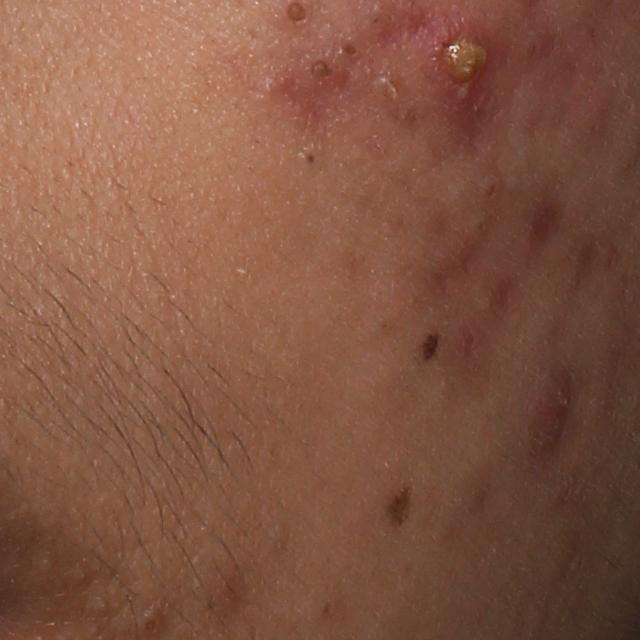comedo: (295, 143, 329, 175), (479, 176, 508, 206), (138, 607, 166, 638), (307, 54, 335, 83), (339, 38, 360, 58)
nevus: (385, 483, 416, 530), (418, 331, 440, 365)
nodule: (413, 10, 512, 130)
papule: (529, 374, 570, 448)
